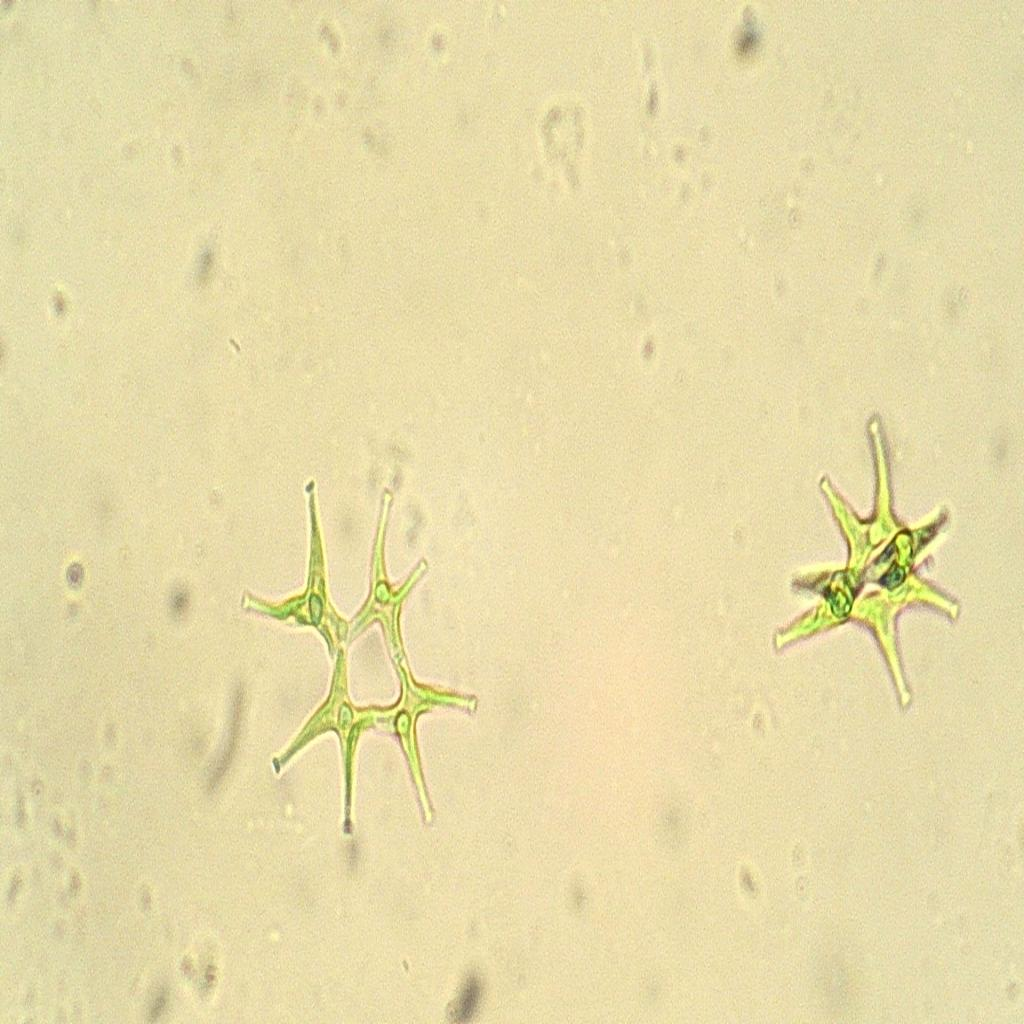Pediastrum_75FI: (234, 452, 486, 885)
